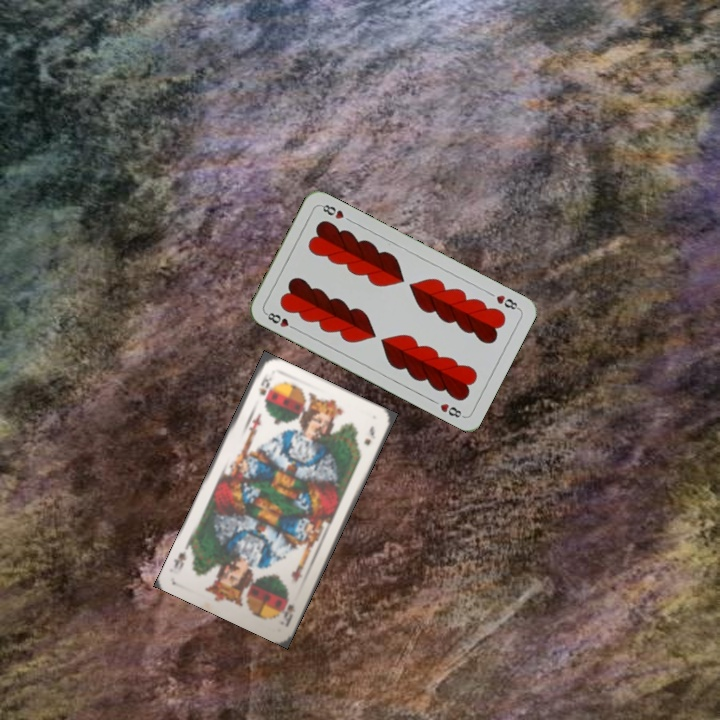H8: (261, 308, 299, 333), (492, 291, 522, 312)
SK: (278, 594, 298, 630), (254, 368, 272, 398)
